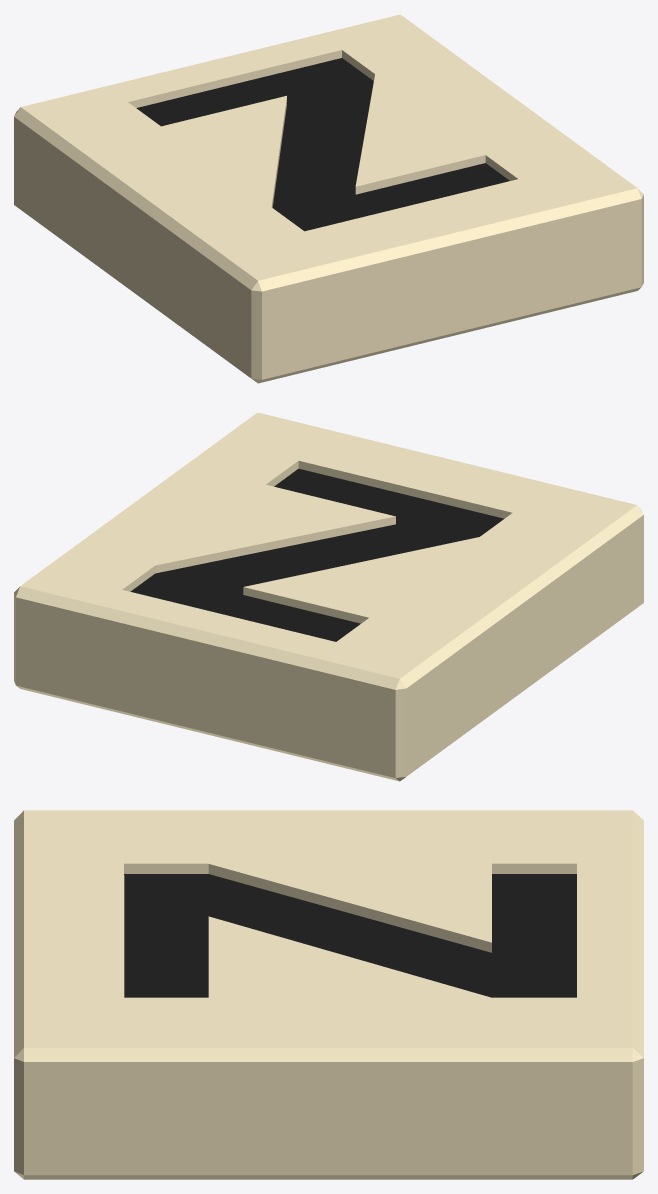
Rendered from Boardgame_Piece_Anagram_Letter_Z_01.fbx.
The picture shows the model from 3 angles, top to bottom: view 1: azimuth 30°, elevation 25°; view 2: azimuth 150°, elevation 25°; view 3: azimuth 270°, elevation 25°; orthographic projection. The views are drawn at different scales.
Parts seen in each view (by area): view 1: Boardgame_Piece_Anagram_Letter_Z_01; view 2: Boardgame_Piece_Anagram_Letter_Z_01; view 3: Boardgame_Piece_Anagram_Letter_Z_01.
Boxes of the visible parts, bbox=[...] form: Boardgame_Piece_Anagram_Letter_Z_01: bbox=[14, 14, 643, 383]; Boardgame_Piece_Anagram_Letter_Z_01: bbox=[14, 412, 643, 781]; Boardgame_Piece_Anagram_Letter_Z_01: bbox=[14, 810, 643, 1179].
Bounding box in the file's own units: 1000 × 250 × 1083.
